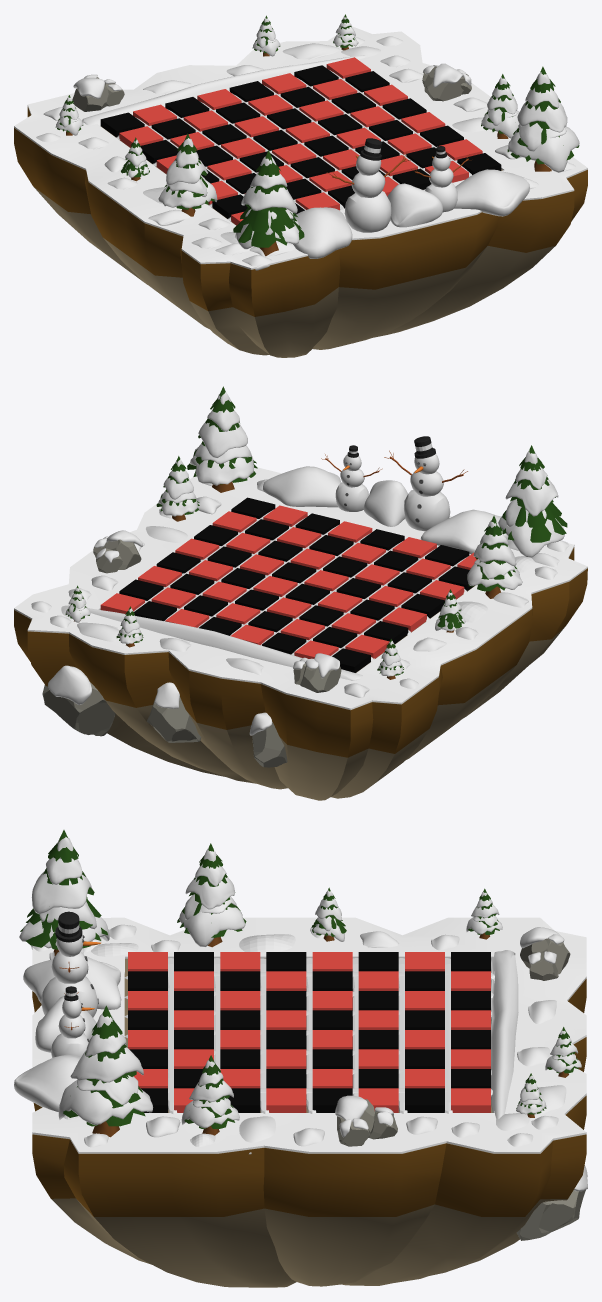
3 renders of one model, top to bottom at view 1: azimuth 30°, elevation 25°; view 2: azimuth 150°, elevation 25°; view 3: azimuth 270°, elevation 25°, orthographic. The views are drawn at different scales.
Visible parts, largest first — view 1: Cube.005, Cube.025, Cube.007, Cube.006, Cube.075, Cube.036, Cube.037, Circle.001, Cube.035, Cube.083, Cube.076, Cube.039 (+15 smaller); view 2: Cube.005, Cube.025, Cube.007, Cube.006, Cube.075, Cube.076, Cube.037, Cube.036, Cube.038, Cube.023, Cube.083, Cube.035 (+16 smaller); view 3: Cube.005, Cube.025, Cube.006, Cube.007, Cube.079, Cube.075, Cube.037, Cube.076, Cube.083, Cube.036, Cube.035, Cube.081 (+20 smaller).
Part boxes in pixels (x1,y1,x2,y2): Cube.005: [14, 107, 587, 357]; Cube.025: [14, 26, 587, 269]; Cube.007: [100, 65, 501, 218]; Cube.006: [119, 57, 482, 225]; Cube.075: [508, 72, 579, 172]; Cube.036: [454, 169, 529, 216]; Cube.037: [82, 55, 366, 125]; Circle.001: [233, 150, 304, 256]; Cube.035: [291, 207, 352, 258]; Cube.083: [158, 138, 217, 208]; Cube.076: [235, 156, 299, 249]; Cube.039: [387, 183, 442, 227]; Cube.005: [14, 547, 587, 800]; Cube.025: [14, 467, 587, 709]; Cube.007: [119, 497, 473, 672]; Cube.006: [100, 505, 477, 658]; Cube.075: [190, 392, 254, 485]; Cube.076: [498, 450, 564, 557]; Cube.037: [88, 608, 362, 680]; Cube.036: [263, 466, 341, 507]; Cube.038: [133, 509, 467, 656]; Cube.023: [42, 682, 115, 736]; Cube.083: [467, 520, 522, 589]; Cube.035: [420, 509, 508, 554]; Cube.005: [32, 958, 586, 1287]; Cube.025: [32, 917, 586, 1153]; Cube.006: [128, 952, 490, 1112]; Cube.007: [128, 952, 490, 1112]; Cube.079: [168, 958, 452, 1113]; Cube.075: [58, 1014, 153, 1125]; Cube.037: [491, 950, 518, 1119]; Cube.076: [19, 837, 109, 948]; Cube.083: [179, 848, 245, 946]; Cube.036: [14, 1054, 80, 1111]; Cube.035: [23, 956, 121, 1009]; Cube.081: [181, 1060, 239, 1128].
Size of the model in its own units: 3.18 by 2.28 by 3.29.
